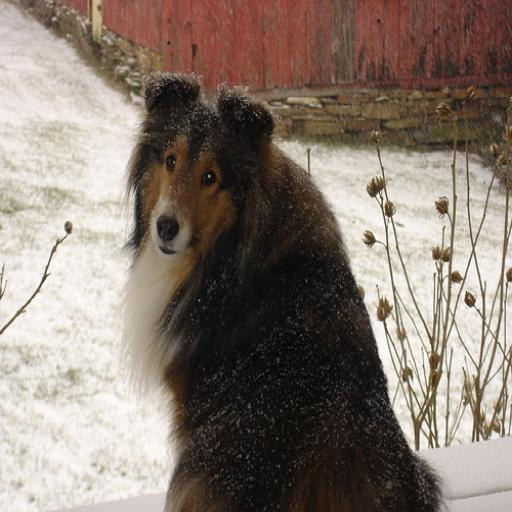dog_face: (125, 74, 254, 258)
